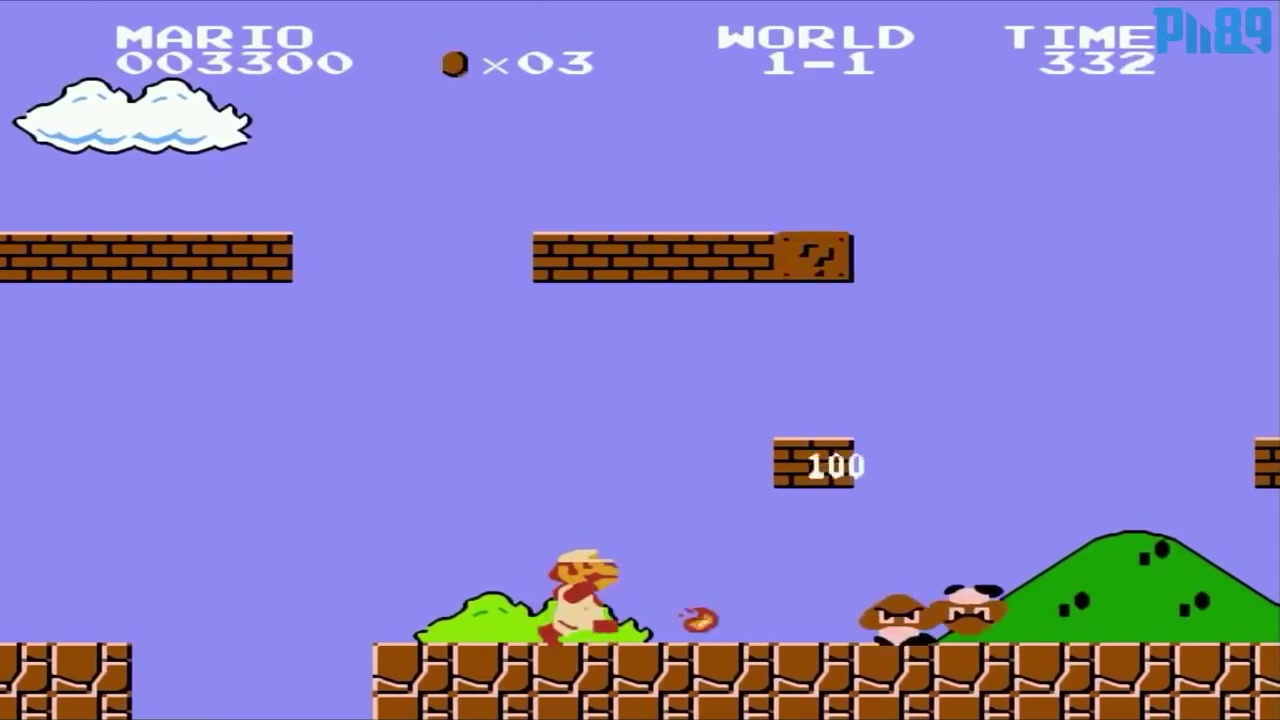mario: (533, 542, 621, 654)
